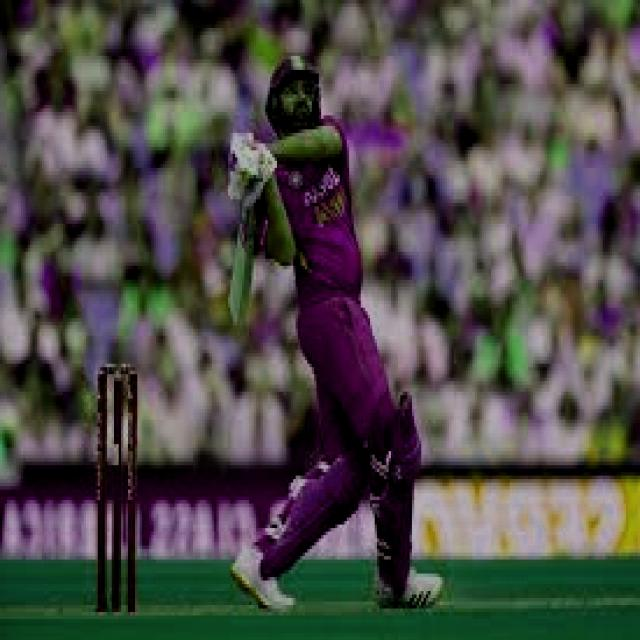toe: (218, 270, 253, 334)
